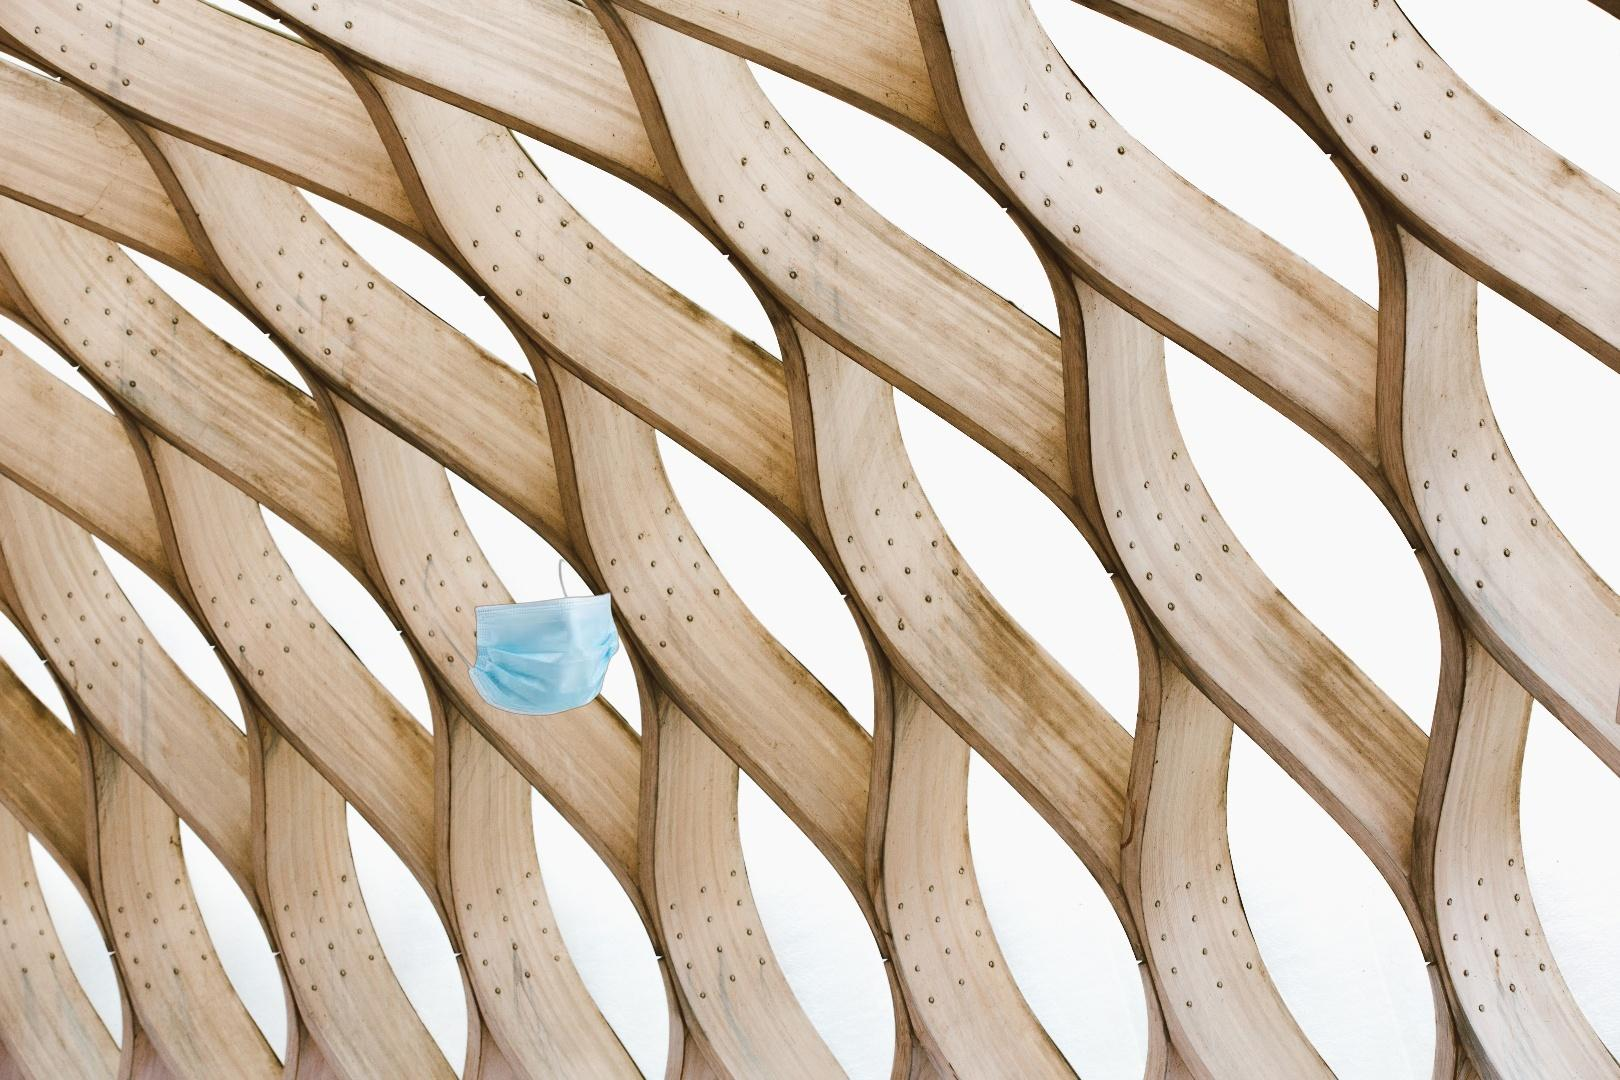paper-bag: (1614, 524, 1620, 747)
trash: (424, 557, 622, 718)
